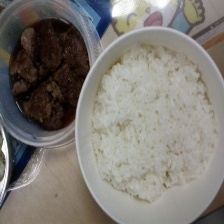rice: (87, 42, 219, 202)
